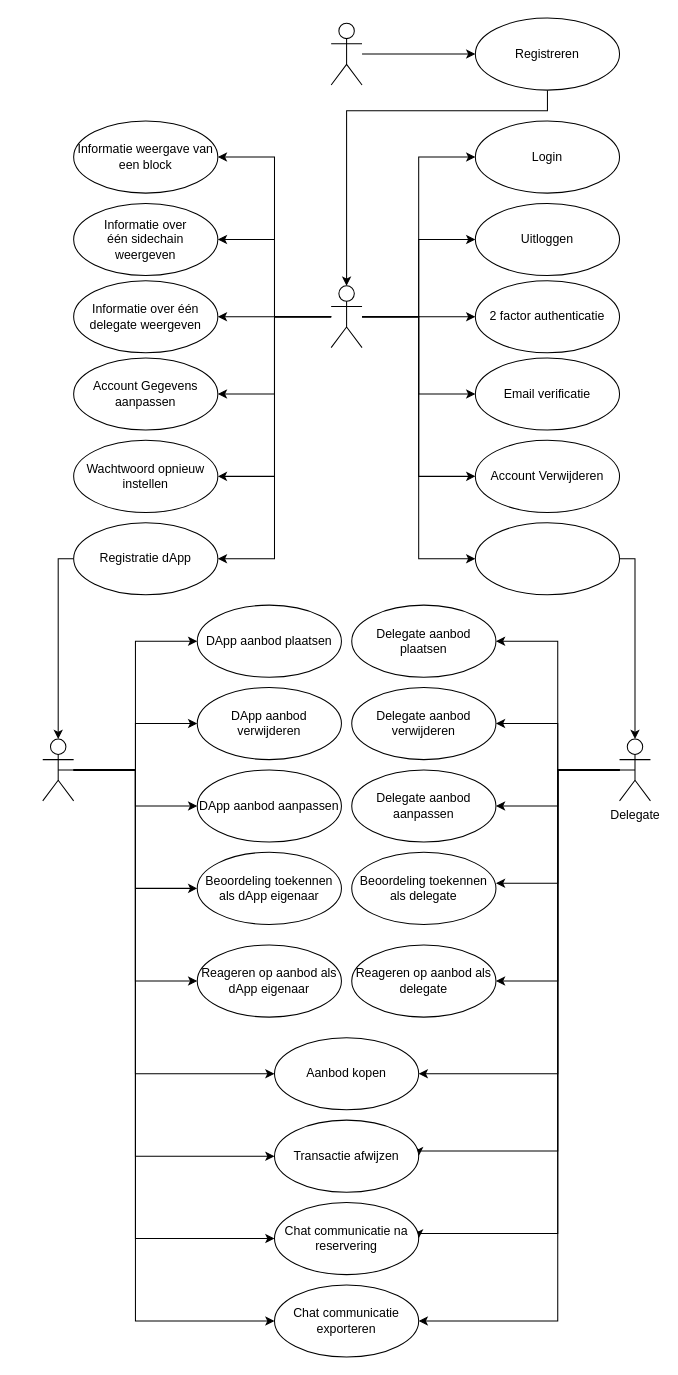
Some shapes in this 678 by 1375 pixel diagram are drawn without their labels. The centre of each missing label's shape, as x and y in pixels:
"dApp eigenaar" belongs at point (58, 769).
"Gebruiker" belongs at point (346, 316).
"Niet geregistreerde gebruiker" belongs at point (346, 53).
"Registratie Delegate" belongs at point (547, 558).
